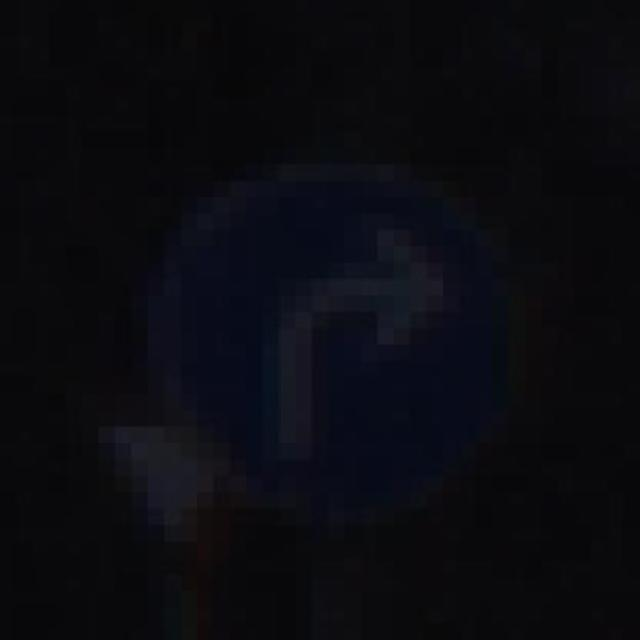Turn right ahead: (131, 99, 558, 542)
